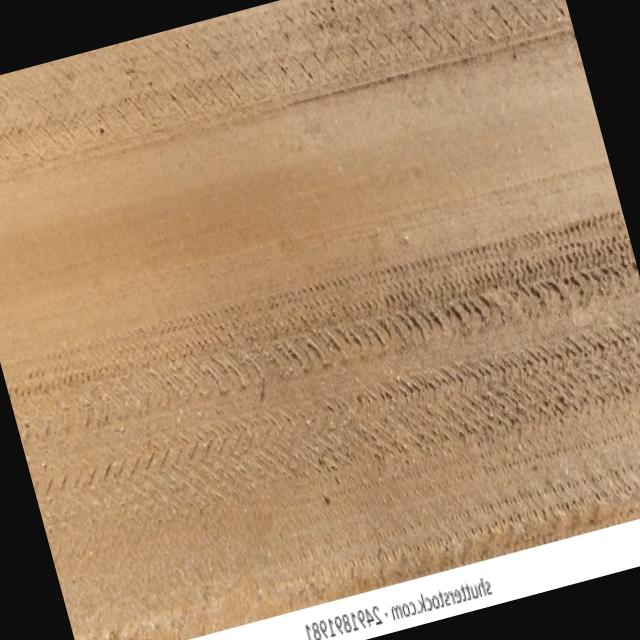suelo_compacto: (8, 84, 550, 622)
